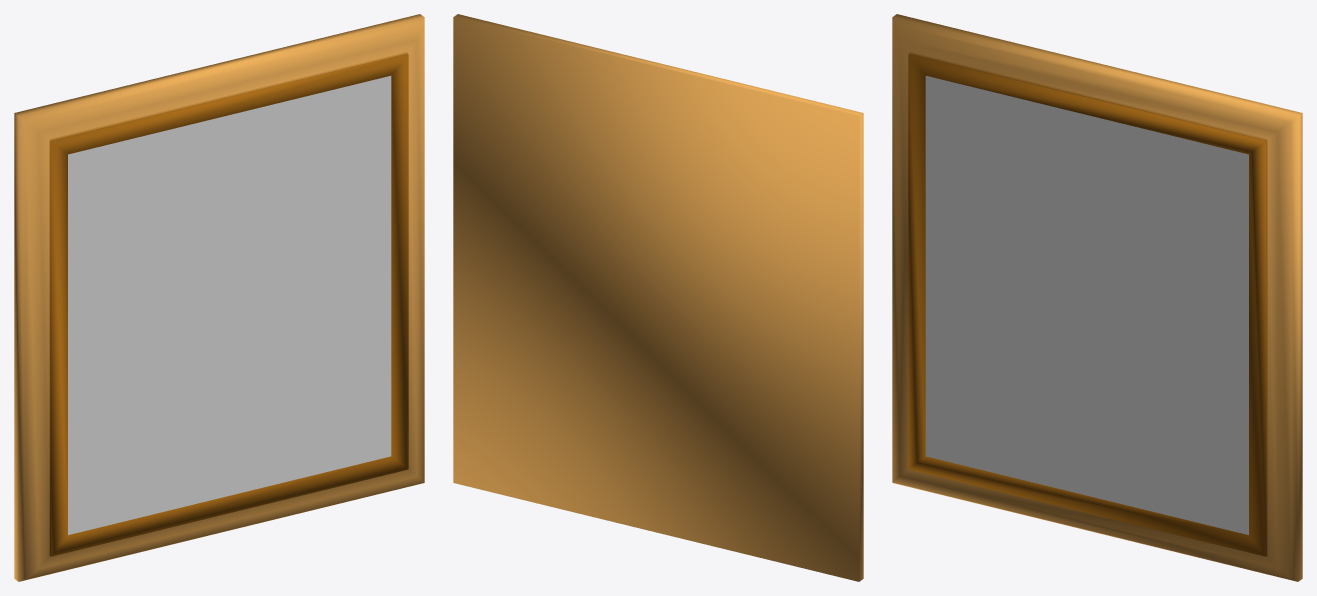
Rendered from Painting04.fbx.
3 views of the same model, side by side, from view 1: azimuth 30°, elevation 25°; view 2: azimuth 150°, elevation 25°; view 3: azimuth 330°, elevation 25° (orthographic).
Parts seen in each view (by area): view 1: Painting04_Glass, Painting04; view 2: Painting04; view 3: Painting04_Glass, Painting04.
Part boxes in pixels (left/top/right/bottom): Painting04_Glass: left=68, top=76, right=391, bottom=534; Painting04: left=14, top=14, right=424, bottom=581; Painting04: left=453, top=14, right=863, bottom=581; Painting04_Glass: left=925, top=76, right=1248, bottom=534; Painting04: left=892, top=14, right=1302, bottom=581.
Size of the model in its own units: 1 by 1.1 by 0.0541.
